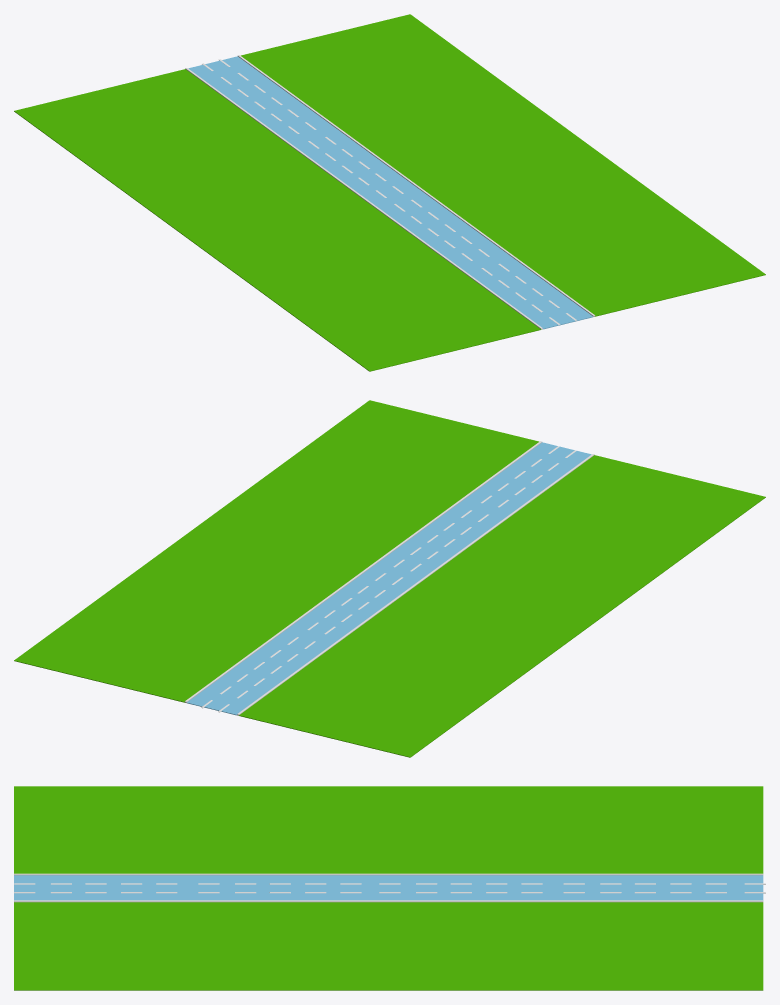
File: road_geo (1).fbx
The picture shows the model from 3 angles, top to bottom: view 1: azimuth 30°, elevation 25°; view 2: azimuth 150°, elevation 25°; view 3: azimuth 270°, elevation 25°; orthographic projection. The views are drawn at different scales.
Parts seen in each view (by area): view 1: road; view 2: road; view 3: road.
Boxes of the visible parts, box(x1,y1,x2,y2) form: road: box(14, 14, 765, 371); road: box(14, 400, 765, 757); road: box(14, 786, 765, 990).
Bounding box in the file's own units: 151 × 0.5491 × 236.
